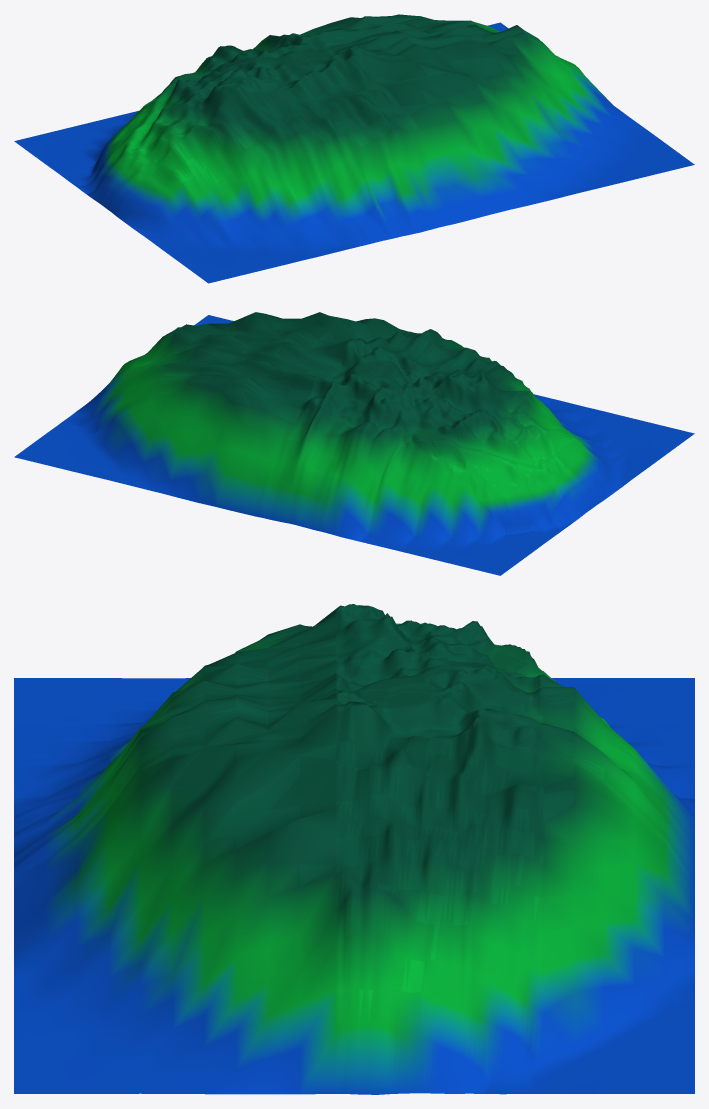
File: arena_headland_ground.glb
3 renders of one model, top to bottom at view 1: azimuth 30°, elevation 25°; view 2: azimuth 150°, elevation 25°; view 3: azimuth 270°, elevation 25°, orthographic. The views are drawn at different scales.
Visible parts, largest first — view 1: arena_headland_ground; view 2: arena_headland_ground; view 3: arena_headland_ground.
Boxes of the visible parts, <box> form: arena_headland_ground: <box>14,14,694,283</box>; arena_headland_ground: <box>14,312,694,575</box>; arena_headland_ground: <box>14,604,694,1094</box>.
Size of what is drawn, in the model's own units: 260 by 53.87 by 180.
